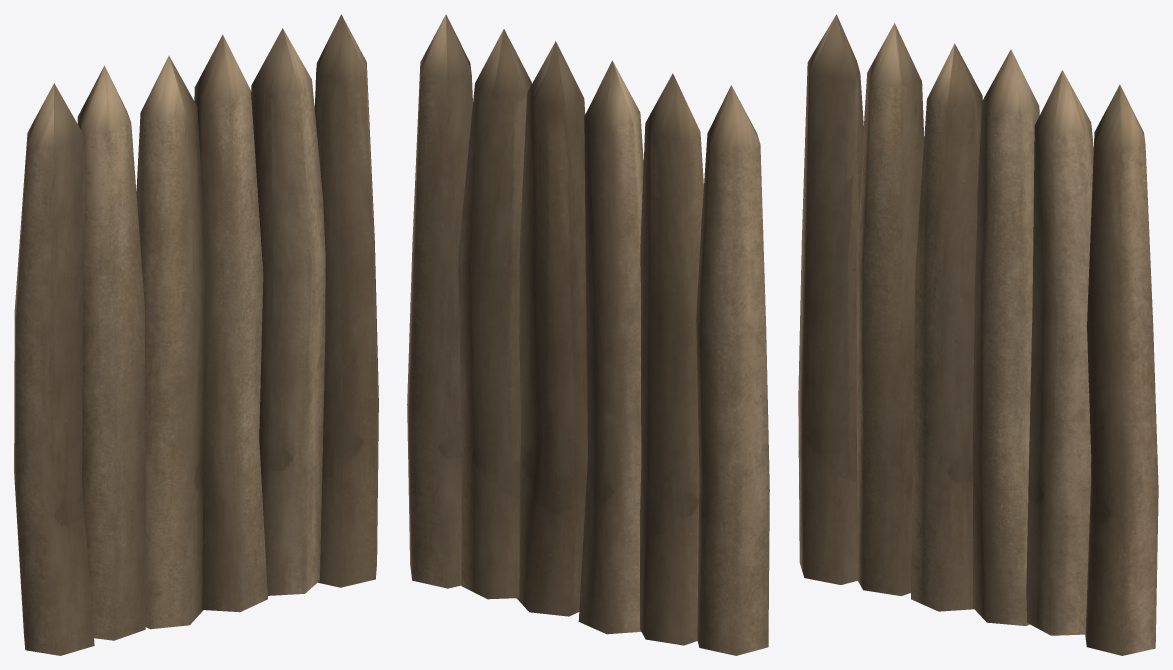
Rendered from Fence_LOD0.fbx.
3 views of the same model, side by side, from view 1: azimuth 30°, elevation 25°; view 2: azimuth 150°, elevation 25°; view 3: azimuth 330°, elevation 25° (orthographic).
Parts seen in each view (by area): view 1: Fence_LOD0; view 2: Fence_LOD0; view 3: Fence_LOD0.
Part boxes in pixels (box(x1,y1,x2,y2)): Fence_LOD0: box(14, 14, 378, 655); Fence_LOD0: box(407, 14, 769, 655); Fence_LOD0: box(798, 14, 1158, 655).
Size of the model in its own units: 13.21 by 19.61 by 2.48.
